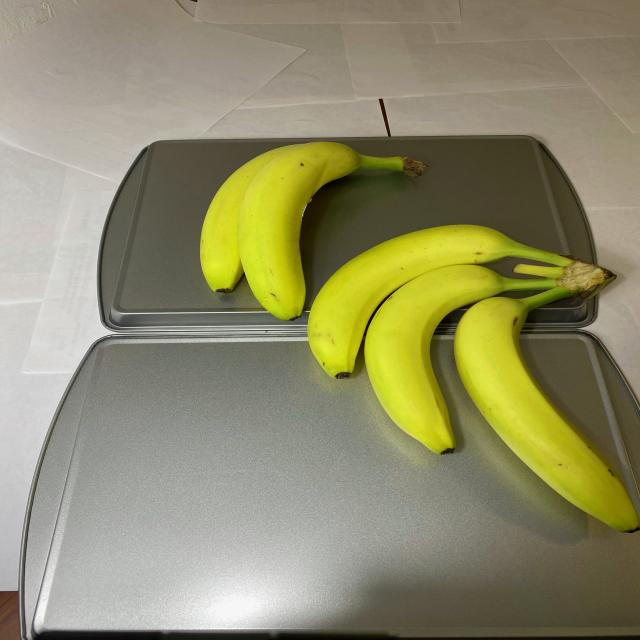Banana: (198, 141, 638, 537)
